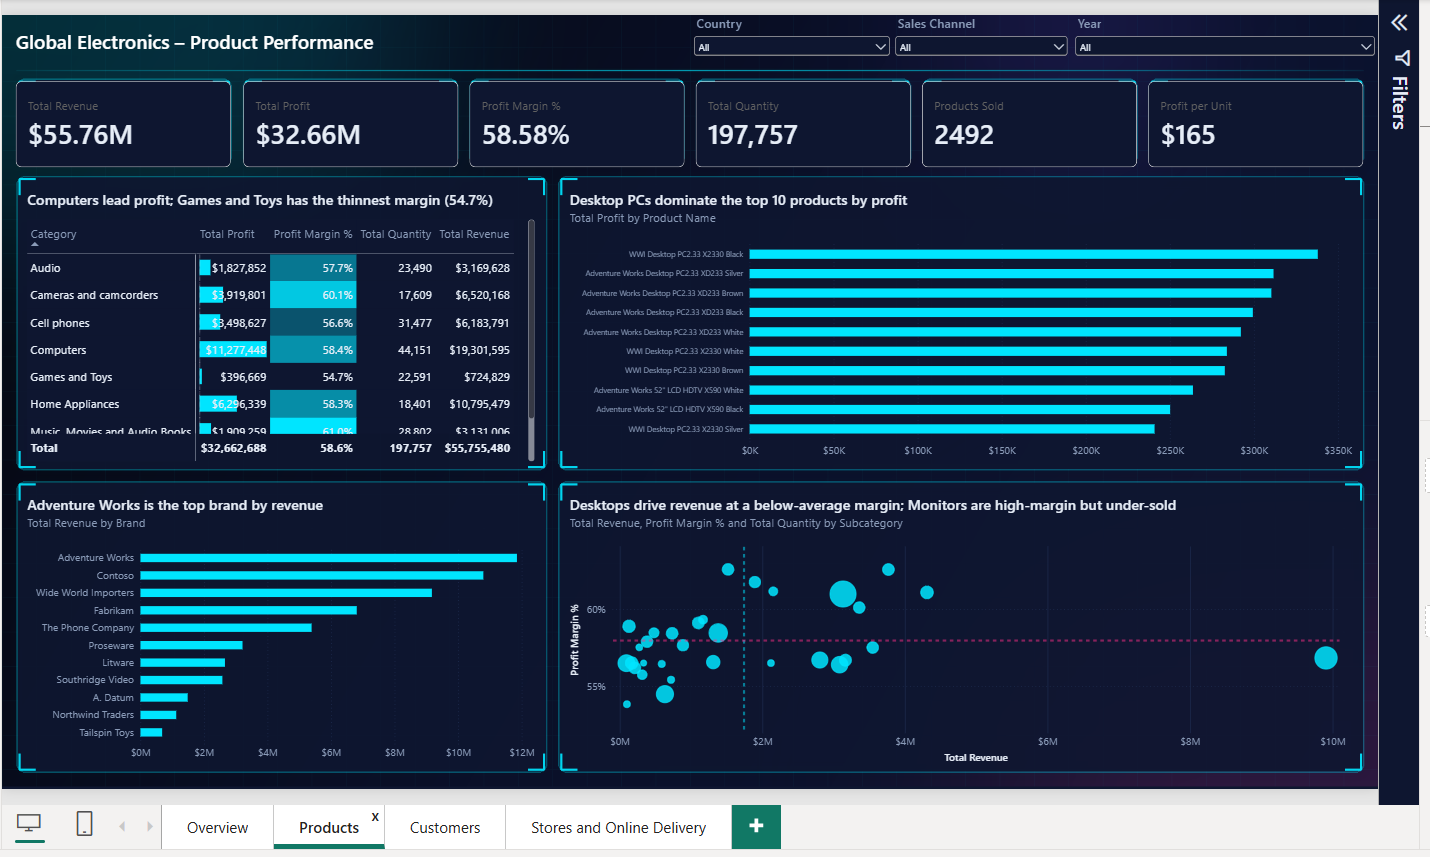

What the dashboard file says about the page in this screenshot:
{"tool":"powerbi","page":{"name":"Products","canvas":[1920,1080],"ordinal":1},"visuals":[{"type":"textbox","box":[20,20,960.2,64.6],"z":0},{"type":"slicer","fields":{"Values":["Date.Year"]},"box":[1492.8,0,427.7,64.6],"z":1000},{"type":"slicer","fields":{"Values":["Stores.Country"]},"box":[960.2,0,282.4,64.6],"z":2000},{"type":"slicer","fields":{"Values":["Sales.Sales Channel"]},"box":[1242.6,0,250.1,64.6],"z":3000},{"type":"cardVisual","fields":{"Data":["_Measures_.Total Revenue"]},"box":[20,92,300,120],"z":4000},{"type":"cardVisual","fields":{"Data":["_Measures_.Profit Margin %"]},"box":[652,92,300,120],"z":5000},{"type":"cardVisual","fields":{"Data":["_Measures_.Total Profit"]},"box":[336,92,300,120],"z":6000},{"type":"cardVisual","fields":{"Data":["_Measures_.Total Quantity"]},"box":[968,92,300,120],"z":7000},{"type":"cardVisual","fields":{"Data":["_Measures_.Products Sold"]},"box":[1284,92,300,120],"z":8000},{"type":"cardVisual","title":"Revenue YoY % (Select a Year)","fields":{"Data":["_Measures_.Profit per Unit"]},"box":[1600,92,300,120],"z":9000},{"type":"pivotTable","title":"Computers lead profit; Games and Toys has the thinnest margin (54.7%)","fields":{"Rows":["Products.Category"],"Values":["_Measures_.Total Profit","_Measures_.Profit Margin %","_Measures_.Total Quantity","_Measures_.Total Revenue"]},"box":[20,228,740,410],"z":10000},{"type":"clusteredBarChart","title":"Desktop PCs dominate the top 10 products by profit","fields":{"Category":["Products.Product Name"],"Y":["_Measures_.Total Profit"]},"box":[776,228,1124,410],"z":11000},{"type":"scatterChart","title":"Desktops drive revenue at a below-average margin; Monitors are high-margin but under-sold","fields":{"Category":["Products.Subcategory"],"Size":["_Measures_.Total Quantity"],"X":["_Measures_.Total Revenue"],"Y":["_Measures_.Profit Margin %"]},"box":[776,654,1124,406],"z":12000},{"type":"clusteredBarChart","title":"Adventure Works is the top brand by revenue","fields":{"Category":["Products.Brand"],"Y":["_Measures_.Total Revenue"]},"box":[20,654,740,406],"z":13000}]}

Visuals, with their boxes on the page's 1920x1080 design canvas (x1, y1, x2, y2). These are canvas units, not pixel positions in the 1430x857 screenshot, which may show the page scaled, cropped or inside an application window:
textbox: [left=20, top=20, right=980, bottom=85]
slicer - Date.Year: [left=1493, top=0, right=1920, bottom=65]
slicer - Stores.Country: [left=960, top=0, right=1243, bottom=65]
slicer - Sales.Sales Channel: [left=1243, top=0, right=1493, bottom=65]
cardVisual - _Measures_.Total Revenue: [left=20, top=92, right=320, bottom=212]
cardVisual - _Measures_.Profit Margin %: [left=652, top=92, right=952, bottom=212]
cardVisual - _Measures_.Total Profit: [left=336, top=92, right=636, bottom=212]
cardVisual - _Measures_.Total Quantity: [left=968, top=92, right=1268, bottom=212]
cardVisual - _Measures_.Products Sold: [left=1284, top=92, right=1584, bottom=212]
"Revenue YoY % (Select a Year)" cardVisual: [left=1600, top=92, right=1900, bottom=212]
"Computers lead profit; Games and Toys has the thinnest margin (54.7%)" pivotTable: [left=20, top=228, right=760, bottom=638]
"Desktop PCs dominate the top 10 products by profit" clusteredBarChart: [left=776, top=228, right=1900, bottom=638]
"Desktops drive revenue at a below-average margin; Monitors are high-margin but under-sold" scatterChart: [left=776, top=654, right=1900, bottom=1060]
"Adventure Works is the top brand by revenue" clusteredBarChart: [left=20, top=654, right=760, bottom=1060]
